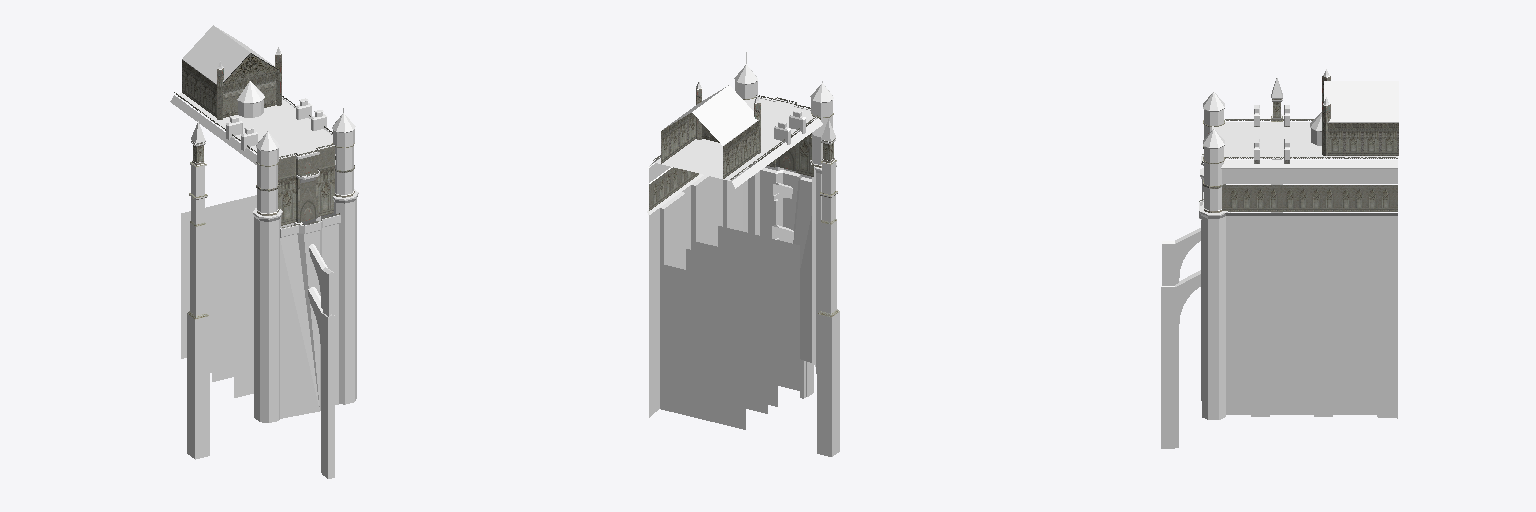
3 renders of one model, left to right at view 1: azimuth 30°, elevation 25°; view 2: azimuth 150°, elevation 25°; view 3: azimuth 270°, elevation 25°, orthographic.
Parts seen in each view (by area): view 1: mesh0, mesh11, mesh1, mesh3, mesh17, mesh4, mesh2, mesh5; view 2: mesh11, mesh0, mesh1, mesh17, mesh4, mesh3, mesh6; view 3: mesh0, mesh11, mesh1, mesh6, mesh17, mesh4.
Part boxes in pixels (x1,y1,x2,y2): mesh0: (187, 98, 358, 478); mesh11: (181, 101, 356, 472); mesh1: (170, 25, 355, 164); mesh3: (278, 146, 334, 225); mesh17: (177, 93, 332, 158); mesh4: (182, 60, 275, 117); mesh2: (223, 53, 278, 84); mesh5: (217, 54, 281, 119); mesh11: (650, 112, 821, 429); mesh0: (647, 52, 839, 456); mesh1: (650, 64, 835, 188); mesh17: (655, 98, 816, 180); mesh4: (661, 113, 758, 178); mesh3: (756, 100, 813, 176); mesh6: (649, 167, 698, 210); mesh0: (1161, 99, 1397, 448); mesh11: (1175, 109, 1395, 447); mesh1: (1203, 69, 1398, 167); mesh6: (1222, 185, 1397, 211); mesh17: (1214, 122, 1397, 158); mesh4: (1328, 123, 1398, 155).
Size of the model in its own units: 49.14 by 129 by 76.21.
19 materials, 9 textured.